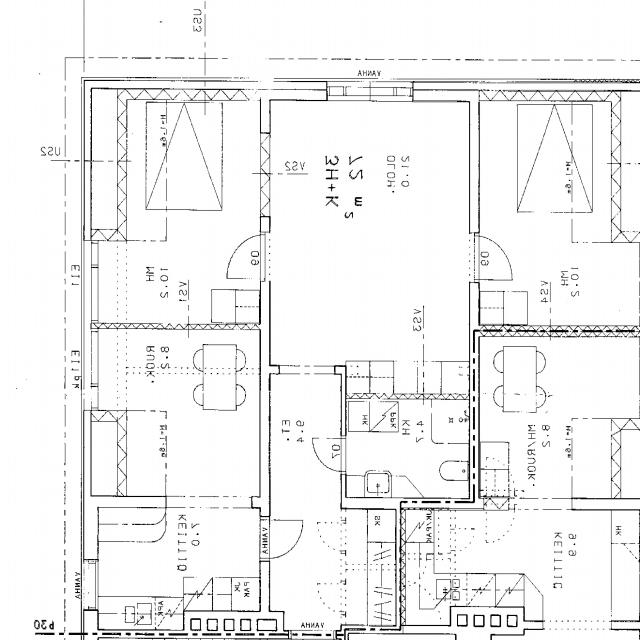door: (416, 38, 450, 100), (470, 235, 517, 279), (222, 235, 268, 279), (260, 520, 302, 558), (309, 438, 346, 472), (315, 584, 346, 612), (316, 522, 346, 550), (291, 625, 303, 640)
